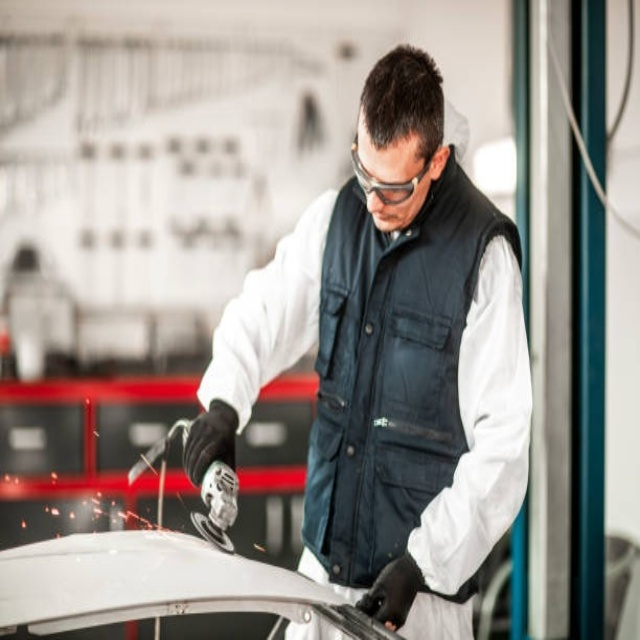Gafas: (351, 131, 432, 204)
Guantes: (357, 551, 425, 633), (182, 398, 238, 489)
Sin_mascara: (367, 199, 404, 231)
